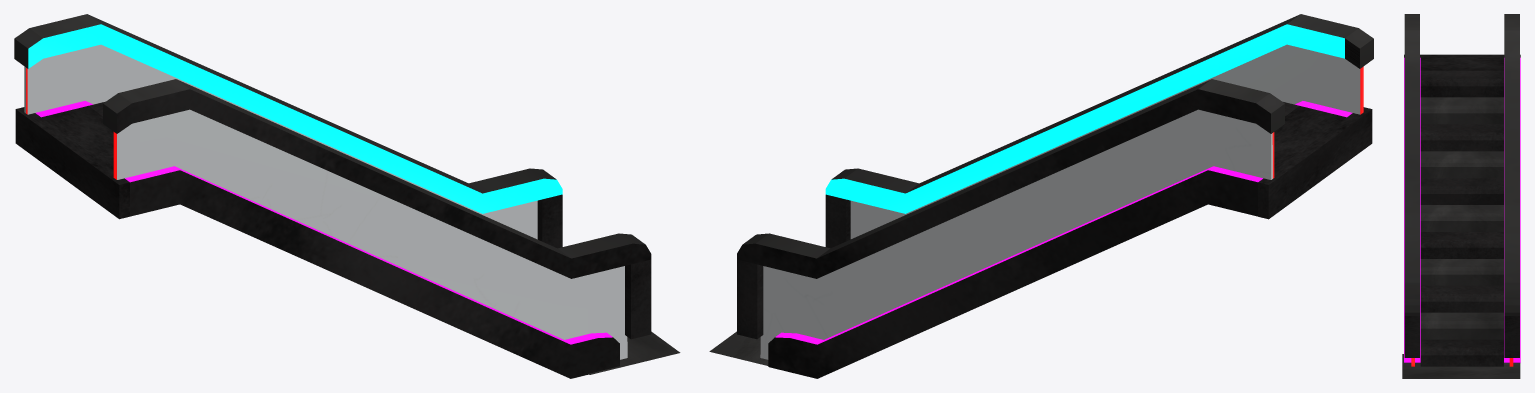
File: Escalator.fbx
3 views of the same model, side by side, from view 1: azimuth 30°, elevation 25°; view 2: azimuth 150°, elevation 25°; view 3: azimuth 270°, elevation 25° (orthographic). The views are drawn at different scales.
Parts seen in each view (by area): view 1: Escalator; view 2: Escalator; view 3: Escalator.
Part boxes in pixels (bbox=[...]): Escalator: bbox=[14, 14, 680, 378]; Escalator: bbox=[709, 14, 1373, 378]; Escalator: bbox=[1402, 14, 1520, 378].
Size of the model in its own units: 477 by 311 by 155.
